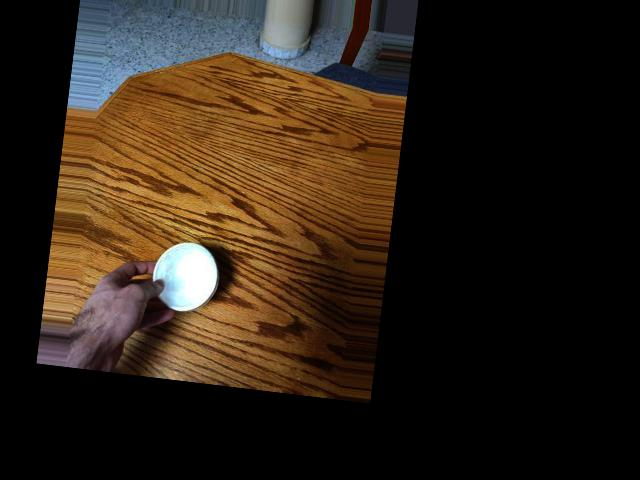cotage: (139, 232, 227, 321)
